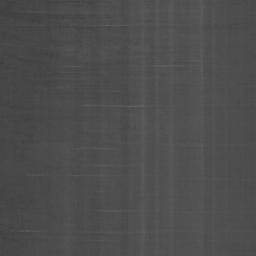Waist folding: (84, 103, 144, 109), (75, 23, 127, 28), (27, 173, 79, 178), (0, 228, 35, 234), (27, 10, 64, 15), (99, 208, 123, 214), (162, 63, 184, 68), (65, 64, 80, 69)
